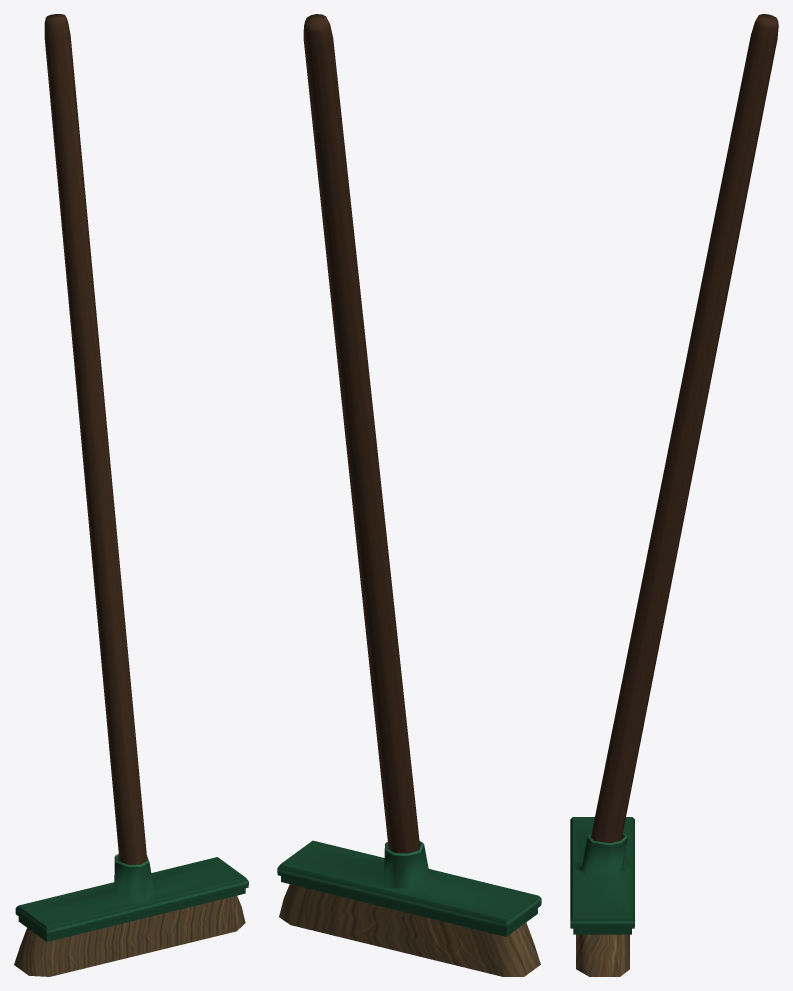
File: Broom.fbx
3 views of the same model, side by side, from view 1: azimuth 30°, elevation 25°; view 2: azimuth 150°, elevation 25°; view 3: azimuth 270°, elevation 25° (orthographic). The views are drawn at different scales.
Visible parts, largest first — view 1: BroomHandle, BroomPlastic, BroomBrush; view 2: BroomHandle, BroomPlastic, BroomBrush; view 3: BroomHandle, BroomPlastic, BroomBrush.
Part boxes in pixels (x1,y1,x2,y2): BroomHandle: [44, 14, 146, 864]; BroomPlastic: [15, 854, 248, 941]; BroomBrush: [14, 895, 245, 976]; BroomHandle: [303, 14, 419, 853]; BroomPlastic: [277, 840, 541, 936]; BroomBrush: [279, 884, 540, 976]; BroomHandle: [591, 14, 778, 842]; BroomPlastic: [570, 817, 634, 934]; BroomBrush: [576, 934, 629, 976].
Bounding box in the file's own units: 8.73 × 33.48 × 6.98.
